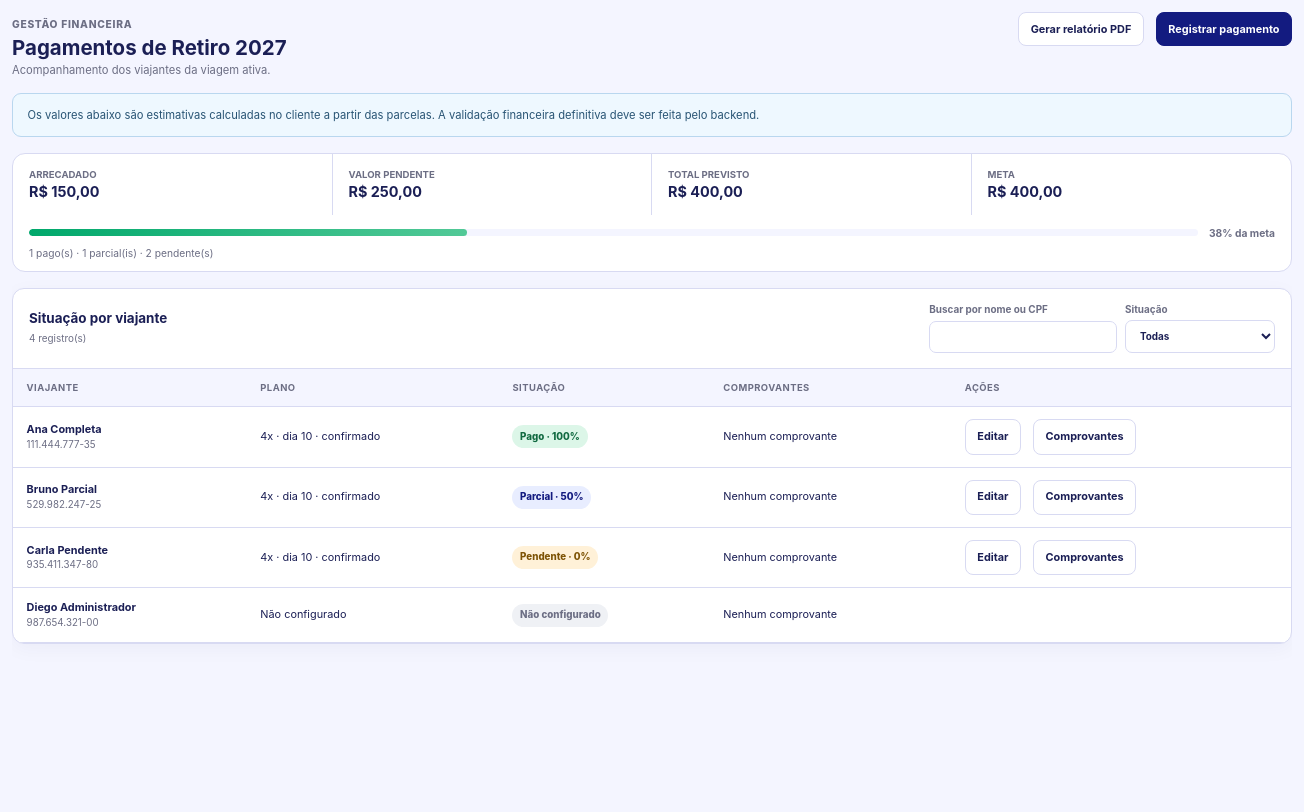
it: AdminPaymentsPage › gera relatório completo da viagem ativa
Click the button "Gerar relatório PDF" at coordinates (1081, 29), box [1018,12,1144,46]
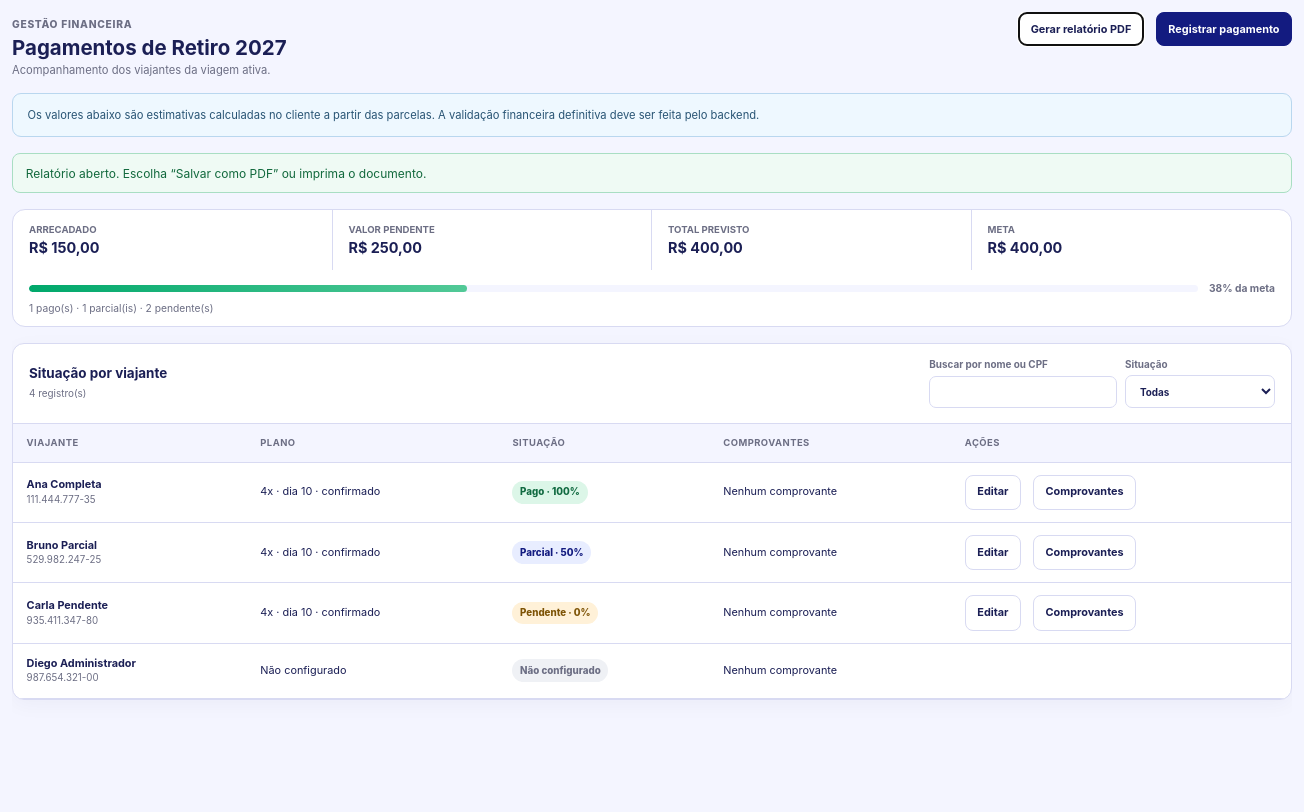
Check: the text "Relatório aberto. Escolha “Salvar como PDF” ou imprima o documento." is shown, box [12,153,1292,193]
